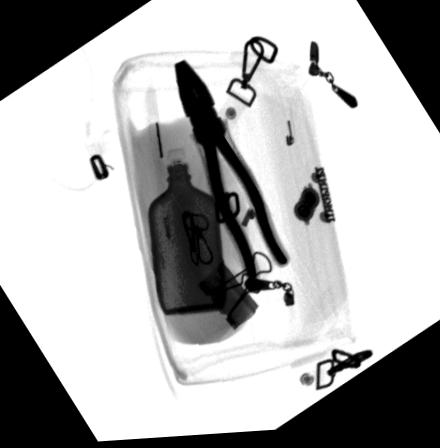Pliers: (171, 59, 292, 285)
